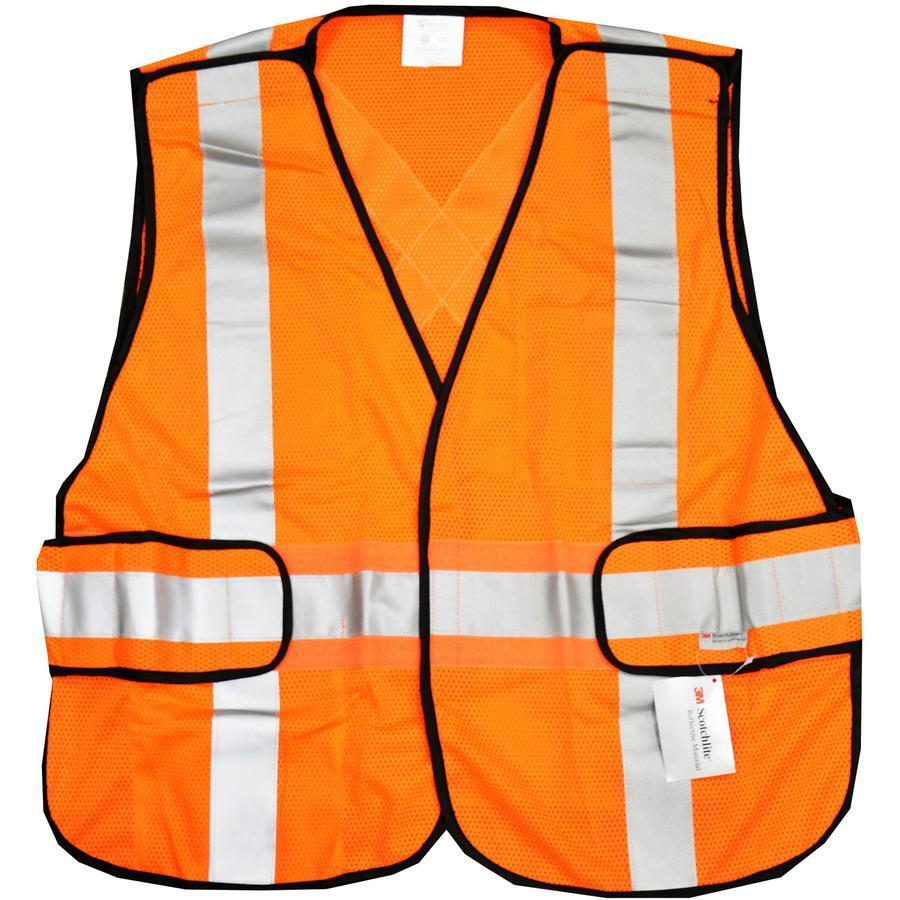vest: (40, 1, 865, 895)
